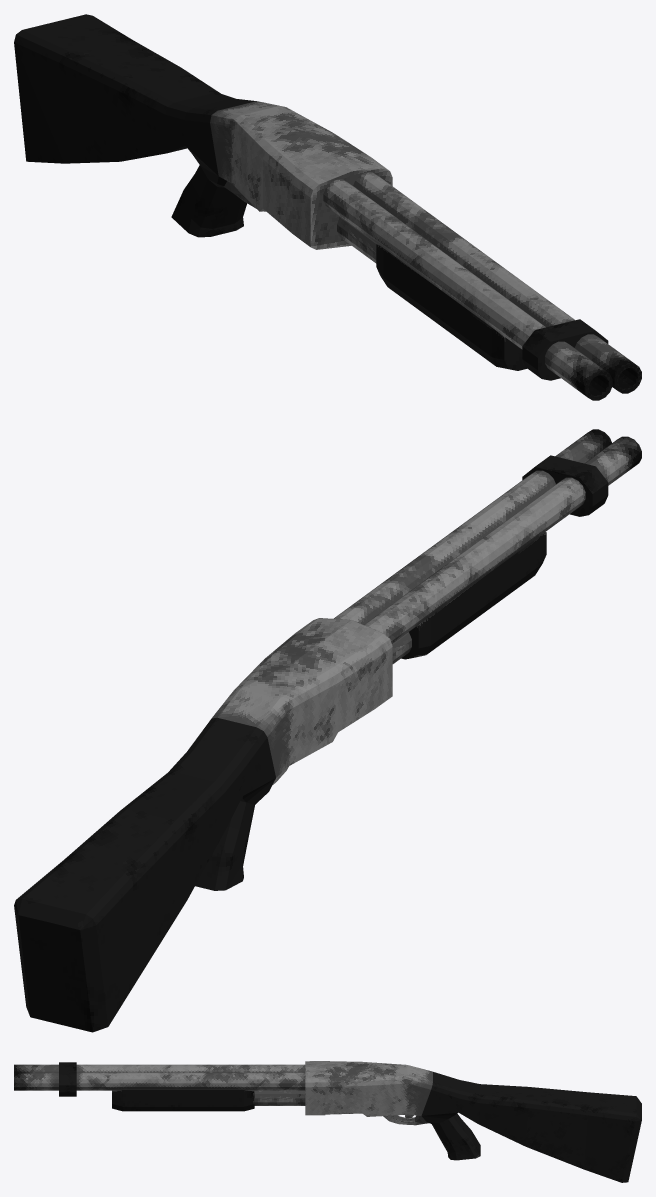
File: Shotgun.glb
3 renders of one model, top to bottom at view 1: azimuth 30°, elevation 25°; view 2: azimuth 150°, elevation 25°; view 3: azimuth 270°, elevation 25°, orthographic. The views are drawn at different scales.
Parts seen in each view (by area): view 1: Cube.002, Cylinder, Cube.001, Cube.004, Cube.005, Cylinder.001; view 2: Cube.002, Cylinder, Cube.001, Cube.004, Cube.005; view 3: Cube.002, Cylinder, Cube.001, Cube.004, Cylinder.001, Cube.005, Cube.003.
Boxes of the visible parts, box(x1,y1,x2,y2) form: Cube.002: box(14, 14, 256, 237); Cylinder: box(323, 172, 641, 400); Cube.001: box(210, 101, 392, 249); Cube.004: box(376, 243, 526, 370); Cube.005: box(522, 319, 608, 380); Cylinder.001: box(337, 217, 376, 263); Cube.002: box(14, 718, 275, 1032); Cylinder: box(333, 429, 641, 643); Cube.001: box(212, 618, 392, 777); Cube.004: box(401, 532, 546, 659); Cube.005: box(522, 455, 608, 516); Cube.002: box(421, 1072, 641, 1182); Cylinder: box(14, 1064, 305, 1090); Cube.001: box(305, 1061, 432, 1116); Cube.004: box(112, 1090, 254, 1111); Cylinder.001: box(254, 1090, 305, 1105); Cube.005: box(59, 1062, 76, 1096); Cube.003: box(383, 1115, 429, 1125).
Bounding box in the file's own units: 0.2607 × 0.5837 × 3.1.
1 material, 1 textured.
